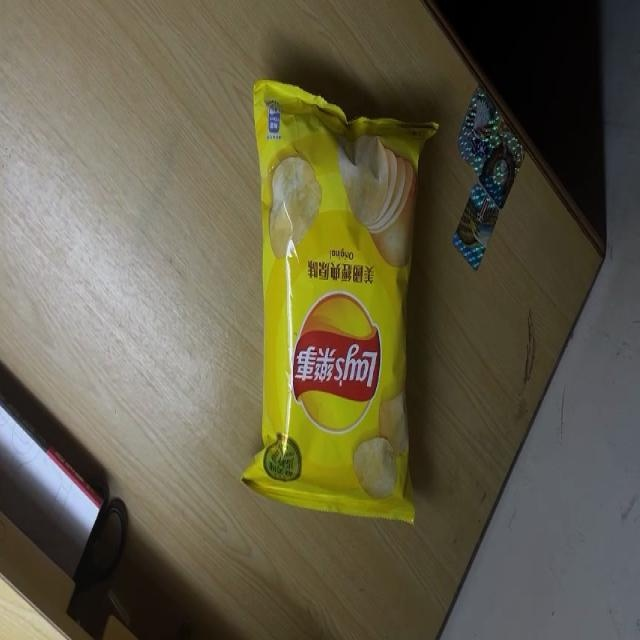Lay-s-original: (241, 82, 438, 523)
